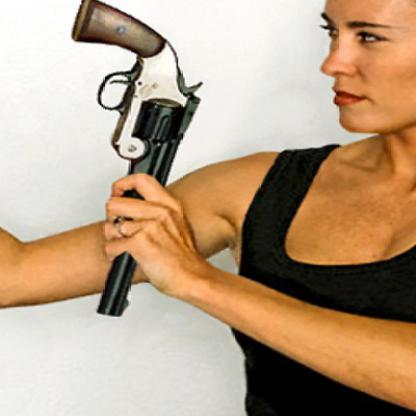gun: (60, 0, 209, 327)
